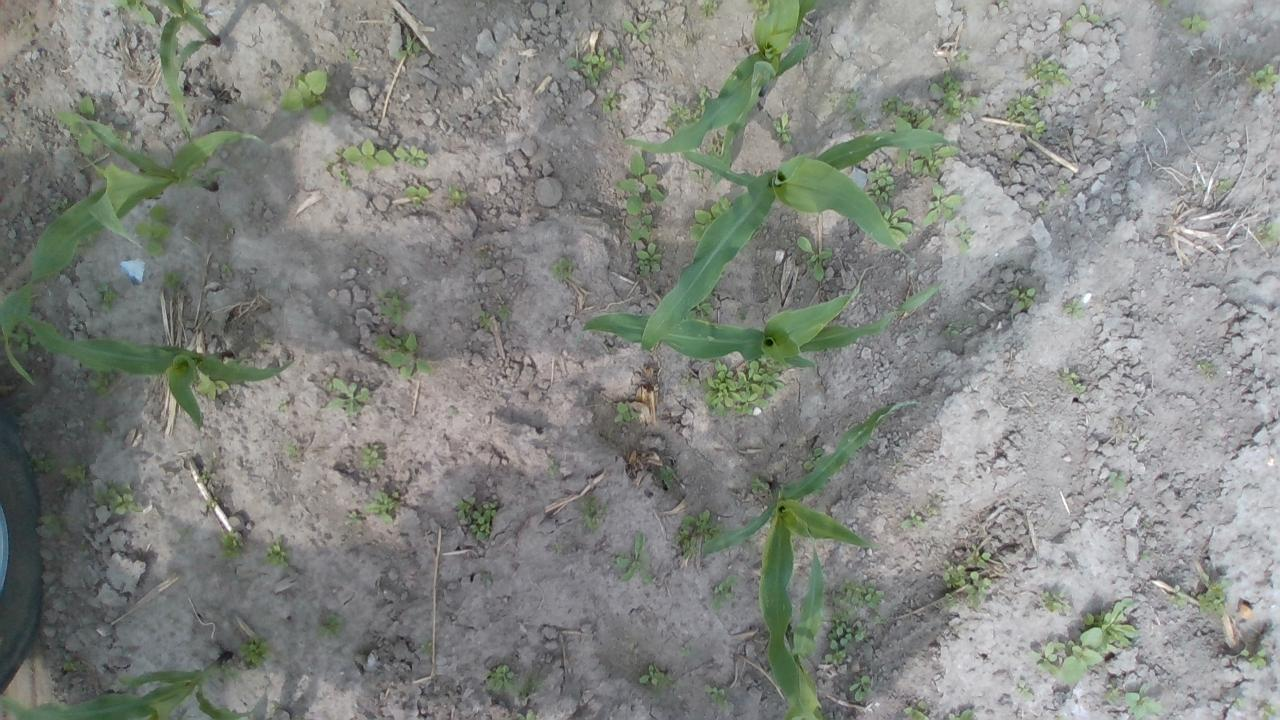Maize: (0, 108, 270, 387), (624, 128, 956, 354), (702, 396, 928, 720), (10, 308, 294, 433), (580, 279, 946, 372), (623, 0, 821, 151), (0, 650, 254, 720), (116, 0, 224, 145), (781, 538, 831, 720)
Weeds: (701, 358, 784, 418), (1032, 628, 1103, 684), (276, 68, 331, 126), (1084, 596, 1138, 654), (618, 151, 665, 214), (374, 332, 436, 379), (941, 558, 990, 612), (929, 70, 979, 122), (56, 96, 98, 157), (824, 610, 870, 665), (564, 48, 624, 88), (675, 509, 723, 558), (1106, 683, 1162, 720), (688, 198, 734, 243), (456, 496, 500, 542), (1004, 94, 1047, 140), (134, 204, 172, 255), (898, 146, 958, 178), (665, 87, 711, 128), (92, 480, 144, 514), (616, 534, 652, 583), (881, 98, 934, 130), (341, 138, 394, 170), (923, 184, 961, 228), (1025, 58, 1071, 94), (831, 578, 884, 609), (328, 378, 370, 416), (798, 236, 832, 282), (1195, 572, 1230, 616), (577, 493, 613, 533), (376, 287, 414, 323), (364, 490, 402, 524), (864, 163, 896, 203), (882, 206, 912, 244), (320, 148, 350, 186), (1062, 4, 1100, 33), (237, 634, 270, 664), (1114, 418, 1148, 446), (1245, 63, 1280, 90), (711, 574, 736, 610), (484, 664, 516, 692), (266, 536, 294, 568), (394, 144, 429, 168), (218, 528, 244, 560), (636, 243, 662, 274), (197, 376, 230, 400), (1058, 366, 1086, 394), (518, 668, 544, 698), (1038, 591, 1070, 614), (89, 369, 117, 395), (620, 20, 652, 42), (848, 674, 873, 702), (315, 613, 345, 636), (703, 683, 729, 709), (61, 460, 88, 485), (360, 445, 386, 470), (76, 231, 102, 256), (628, 216, 653, 242), (829, 92, 857, 114), (96, 284, 118, 312), (1180, 14, 1210, 34), (772, 112, 792, 142), (396, 35, 422, 58), (1009, 288, 1036, 310), (638, 665, 666, 686), (1240, 648, 1268, 669), (955, 221, 973, 253), (1255, 221, 1280, 244), (598, 90, 624, 112), (446, 184, 469, 207), (550, 257, 574, 279), (614, 400, 638, 422), (404, 185, 431, 204), (9, 19, 36, 38), (802, 447, 824, 470), (900, 509, 924, 530), (686, 302, 713, 320), (956, 544, 990, 558), (32, 458, 58, 476), (1139, 90, 1162, 110), (903, 701, 927, 720), (1196, 360, 1218, 380), (1062, 298, 1084, 318), (40, 516, 63, 535), (747, 0, 770, 18), (1016, 680, 1036, 700), (657, 466, 676, 487), (159, 270, 181, 288), (1256, 622, 1279, 639), (1170, 583, 1187, 606), (698, 0, 719, 18), (471, 248, 494, 264), (750, 476, 770, 494), (1260, 702, 1280, 720), (196, 468, 218, 484), (926, 492, 940, 516), (48, 198, 72, 212), (282, 438, 298, 458), (1110, 470, 1126, 490), (707, 136, 724, 154), (344, 510, 363, 526), (1216, 178, 1235, 192), (1056, 179, 1070, 198), (477, 310, 491, 329), (948, 709, 972, 720), (496, 305, 512, 321), (420, 639, 435, 656), (202, 495, 220, 509), (220, 222, 235, 238), (546, 458, 560, 475), (955, 49, 969, 66), (346, 47, 360, 64), (275, 399, 291, 413), (256, 336, 272, 350), (851, 119, 868, 132), (1230, 696, 1244, 711), (480, 570, 493, 586), (189, 7, 206, 19), (115, 131, 132, 143), (90, 419, 106, 431), (873, 610, 886, 624), (552, 540, 564, 555), (518, 710, 536, 720), (1011, 149, 1021, 165), (681, 642, 692, 656), (1156, 0, 1177, 7), (62, 661, 78, 670), (220, 264, 232, 276), (1140, 551, 1154, 561), (892, 455, 902, 468), (942, 328, 958, 336), (680, 376, 692, 386), (690, 170, 704, 178), (1038, 200, 1048, 211), (1220, 58, 1230, 68), (996, 0, 1007, 8), (739, 311, 748, 320)
